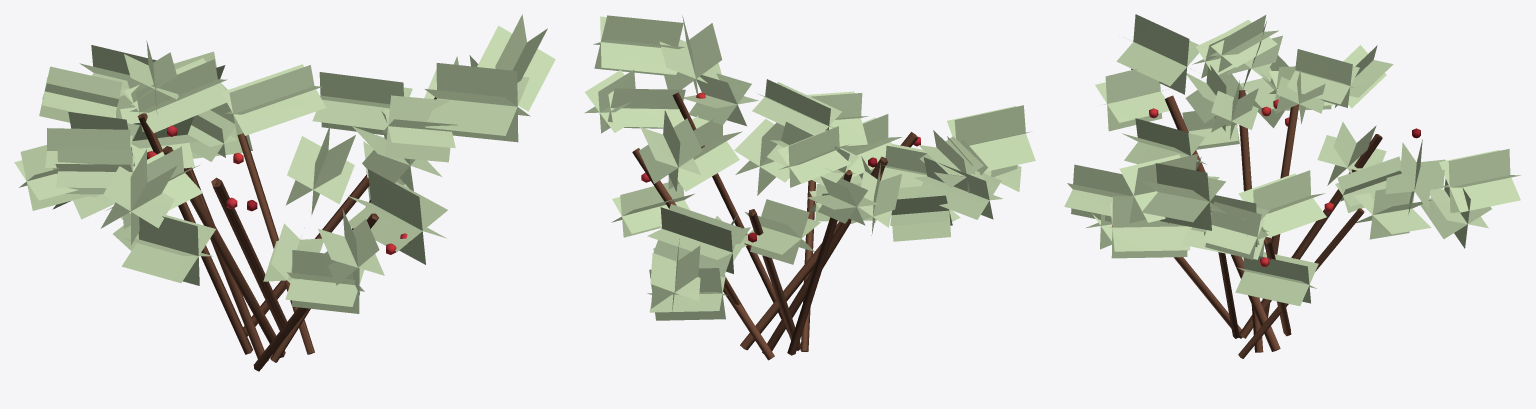
Rendered from standard-lod1.glb.
3 renders of one model, left to right at view 1: azimuth 30°, elevation 25°; view 2: azimuth 150°, elevation 25°; view 3: azimuth 270°, elevation 25°, orthographic. The views are drawn at different scales.
Parts seen in each view (by area): view 1: redberry-leaf-sprays, redberry-buried-stems-ground-blend-and-fruit; view 2: redberry-leaf-sprays, redberry-buried-stems-ground-blend-and-fruit; view 3: redberry-leaf-sprays, redberry-buried-stems-ground-blend-and-fruit.
Boxes of the visible parts, bbox=[...] form: redberry-leaf-sprays: bbox=[14, 14, 555, 313]; redberry-buried-stems-ground-blend-and-fruit: bbox=[137, 97, 436, 371]; redberry-leaf-sprays: bbox=[584, 15, 1035, 320]; redberry-buried-stems-ground-blend-and-fruit: bbox=[632, 92, 920, 360]; redberry-leaf-sprays: bbox=[1064, 14, 1520, 306]; redberry-buried-stems-ground-blend-and-fruit: bbox=[1112, 90, 1420, 358].
Size of the model in its own units: 2.76 by 1.68 by 2.57.
